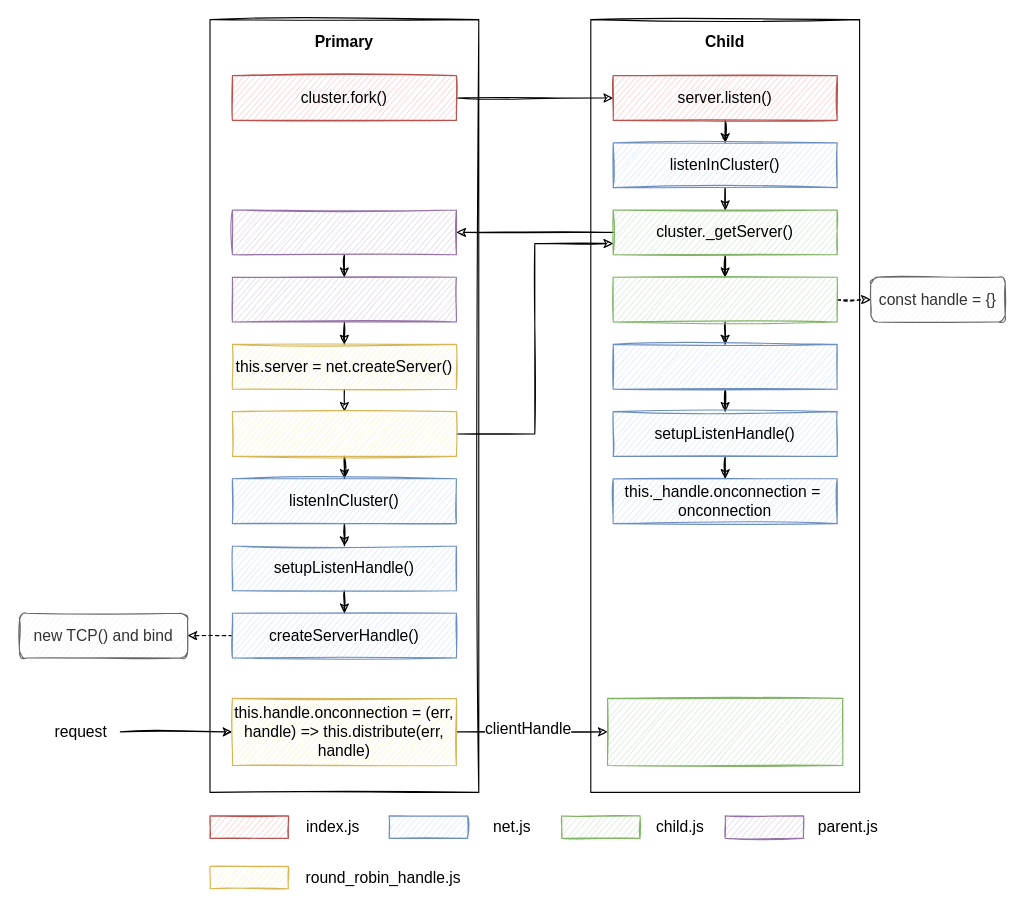
Some shapes in this 1025 by 908 pixel diagram are drawn without their labels. The centre of each missing label's shape, as x and y in pixels:
"handle = new RoundRobinHandle()" goes at [343,299].
"if (message.act === 'newconn') onconnection(message, handle)" goes at [724,731].
"listenOnPrimaryHandle()" goes at [724,366].
"queryServer()" goes at [343,232].
"rr()" goes at [724,299].
"this.server.listen()" goes at [343,433].
